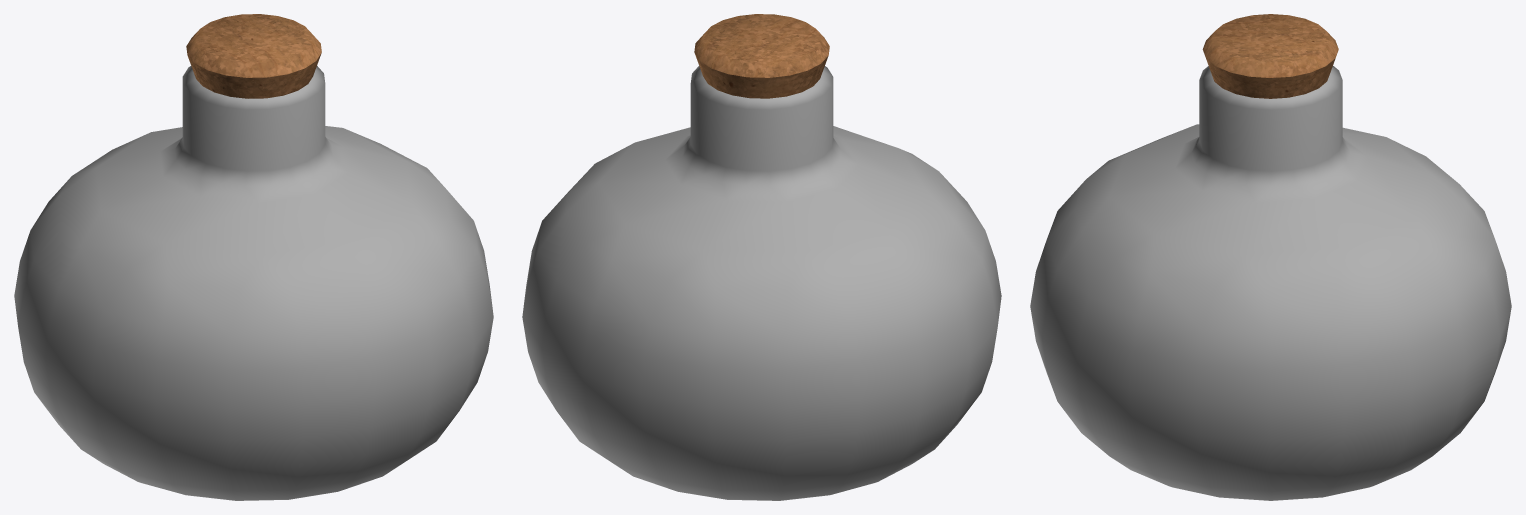
Rendered from SM_Potion_Props_Bottle_Huge_01_B.fbx.
3 renders of one model, left to right at view 1: azimuth 30°, elevation 25°; view 2: azimuth 150°, elevation 25°; view 3: azimuth 270°, elevation 25°, orthographic.
Parts seen in each view (by area): view 1: SM_Potion_Props_Bottle_Huge_01_B_LOD0; view 2: SM_Potion_Props_Bottle_Huge_01_B_LOD0; view 3: SM_Potion_Props_Bottle_Huge_01_B_LOD0.
Part boxes in pixels (x1,y1,x2,y2): SM_Potion_Props_Bottle_Huge_01_B_LOD0: (14, 14, 493, 500); SM_Potion_Props_Bottle_Huge_01_B_LOD0: (522, 14, 1001, 500); SM_Potion_Props_Bottle_Huge_01_B_LOD0: (1030, 14, 1511, 500).
Size of what is drawn, in the model's own units: 42.81 by 38.62 by 42.81.
